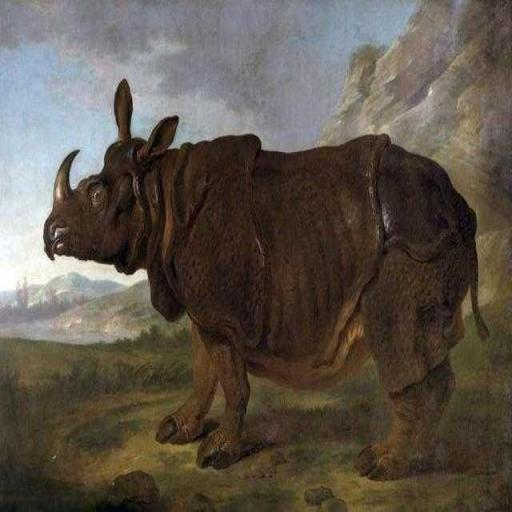Rhino: (42, 76, 490, 480)
